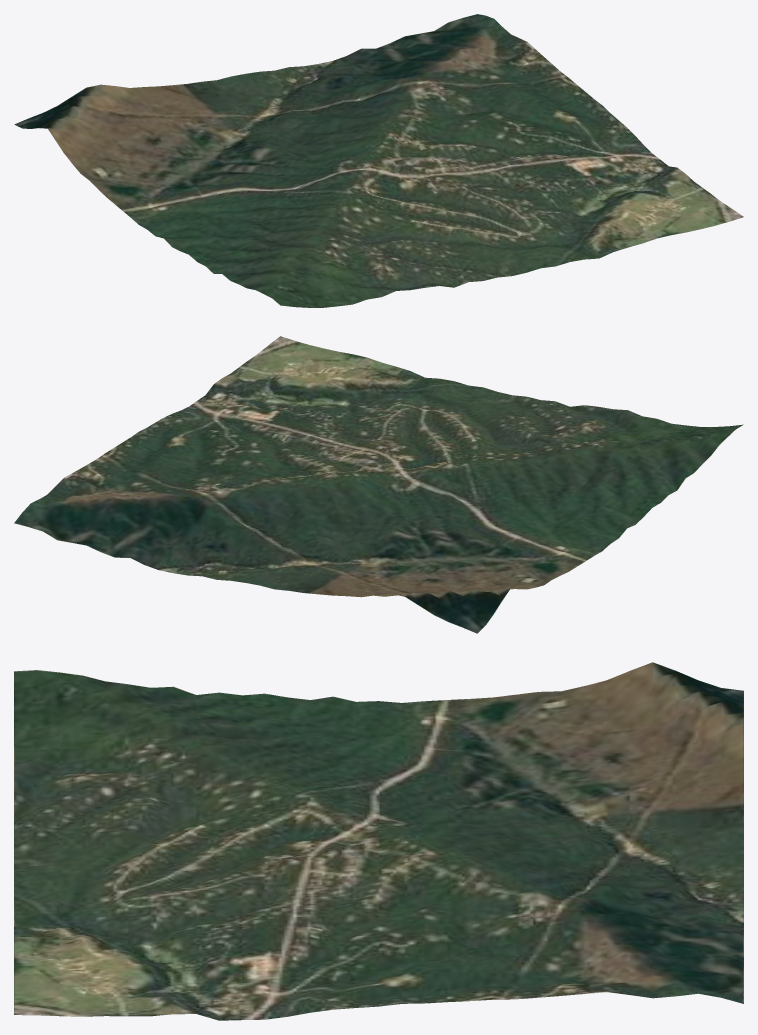
The picture shows the model from 3 angles, top to bottom: view 1: azimuth 30°, elevation 25°; view 2: azimuth 150°, elevation 25°; view 3: azimuth 270°, elevation 25°; orthographic projection. The views are drawn at different scales.
Bounding box in the file's own units: 3898 × 302 × 3881.
Materials: 1 (1 with a texture image).
